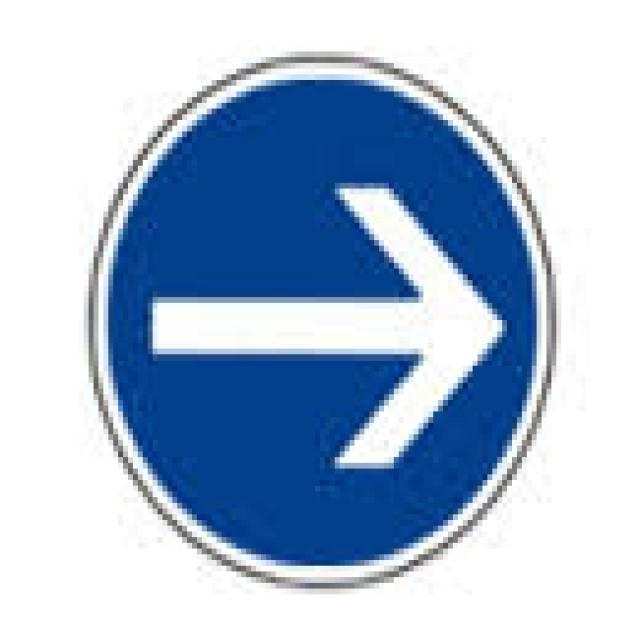COMPULSARY_TURN_RIGHT: (86, 46, 558, 588)
